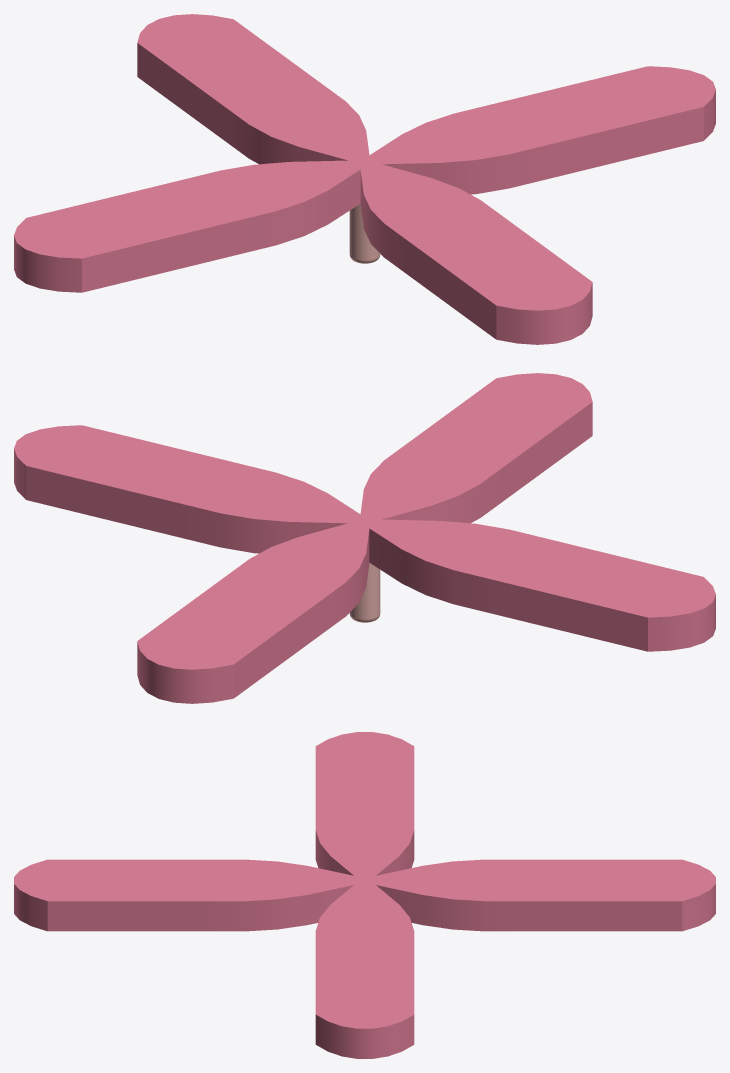
File: Propeller.glb
The picture shows the model from 3 angles, top to bottom: view 1: azimuth 30°, elevation 25°; view 2: azimuth 150°, elevation 25°; view 3: azimuth 270°, elevation 25°; orthographic projection. The views are drawn at different scales.
Parts seen in each view (by area): view 1: Plane.001; view 2: Plane.001; view 3: Plane.001.
Part boxes in pixels (<box>): Plane.001: <box>14,14,715,344</box>; Plane.001: <box>14,373,715,703</box>; Plane.001: <box>14,732,715,1058</box>.
Size of the model in its own units: 2.99 by 0.4016 by 2.99.
